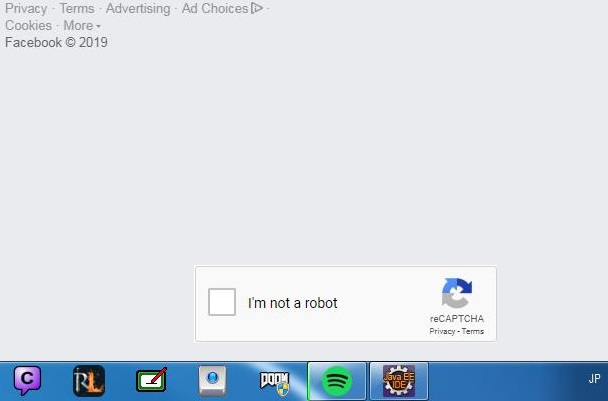captcha: (208, 288, 338, 316)
